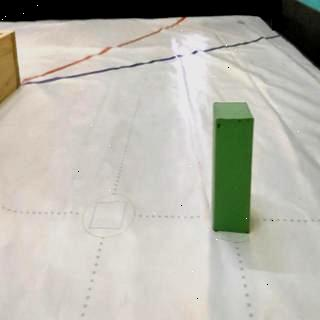greenbox: (213, 100, 255, 234)
